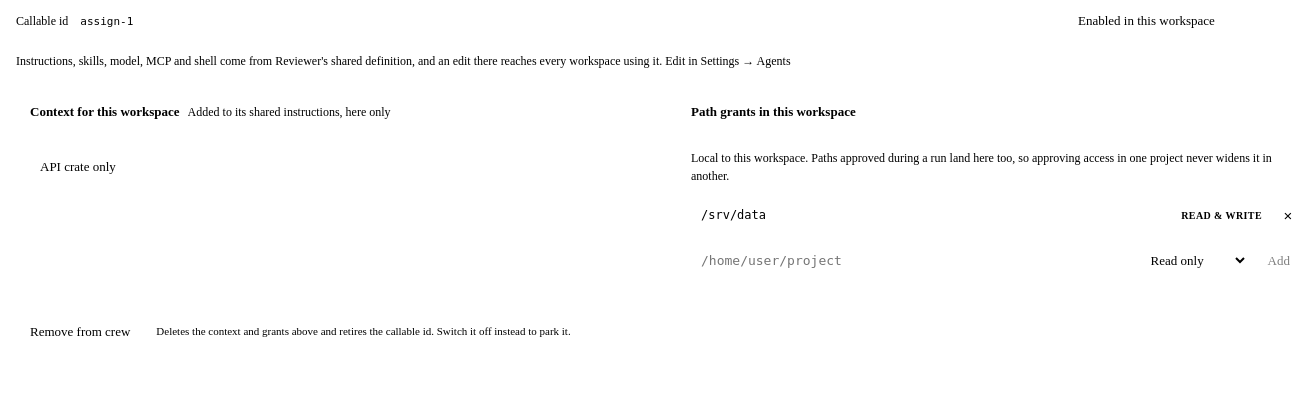
AssignmentSection editor › reports a failed save and keeps the draft dirty
Type " too" into the text box labelled "Context for this workspace" at (336, 220), box [30,150,643,290]
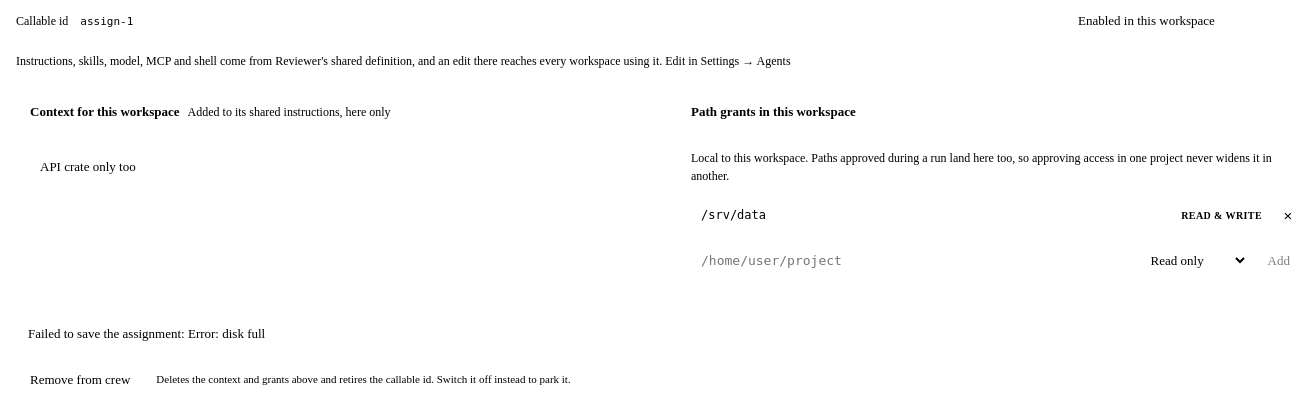
Check: the message shows "disk full", box [28,326,265,341]
